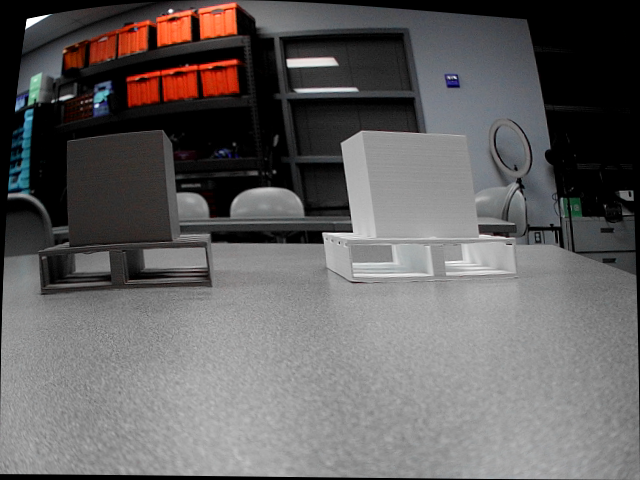grey pallet: (35, 129, 218, 299)
white pallet: (317, 127, 525, 286)
